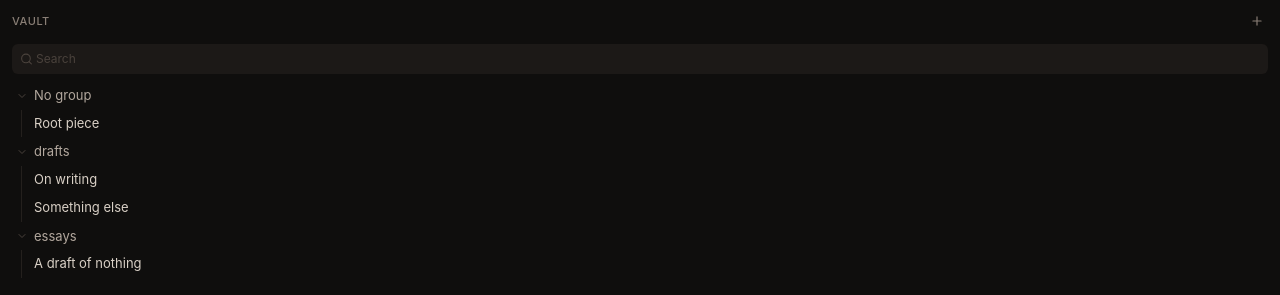
Scenario: LibraryPanel tree › should reveal a match when it is inside a group the writer had folded shut
Click the button "drafts".
click(52, 151)  # box x1=8 y1=138 x2=1272 y2=166
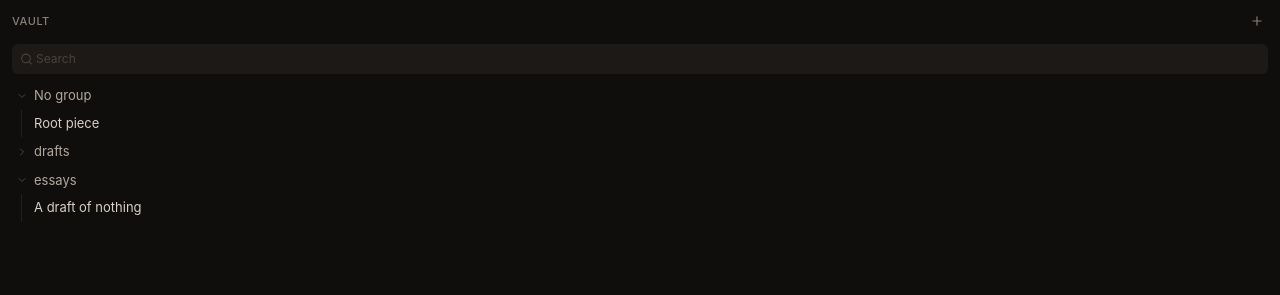
Result: the button "On writing" is gone
Type "On writing" into the search field named "Search documents".
click(640, 59); type("On writing")  # box x1=12 y1=44 x2=1268 y2=74
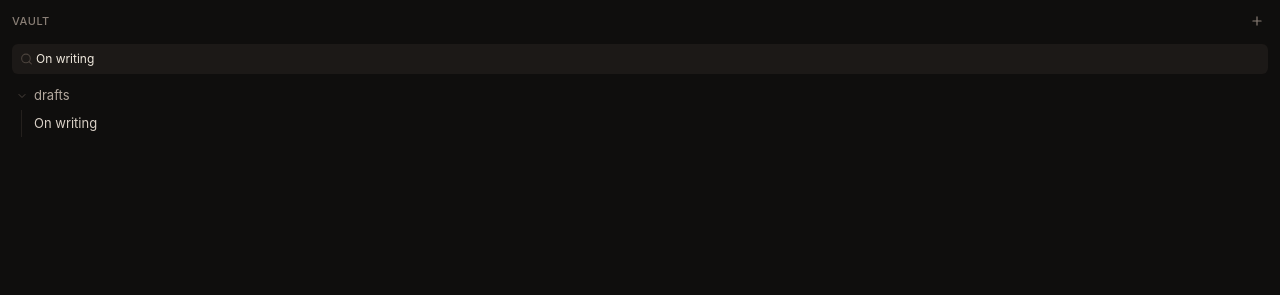
Result: the button "On writing" is shown at x1=26 y1=110 x2=1272 y2=137
